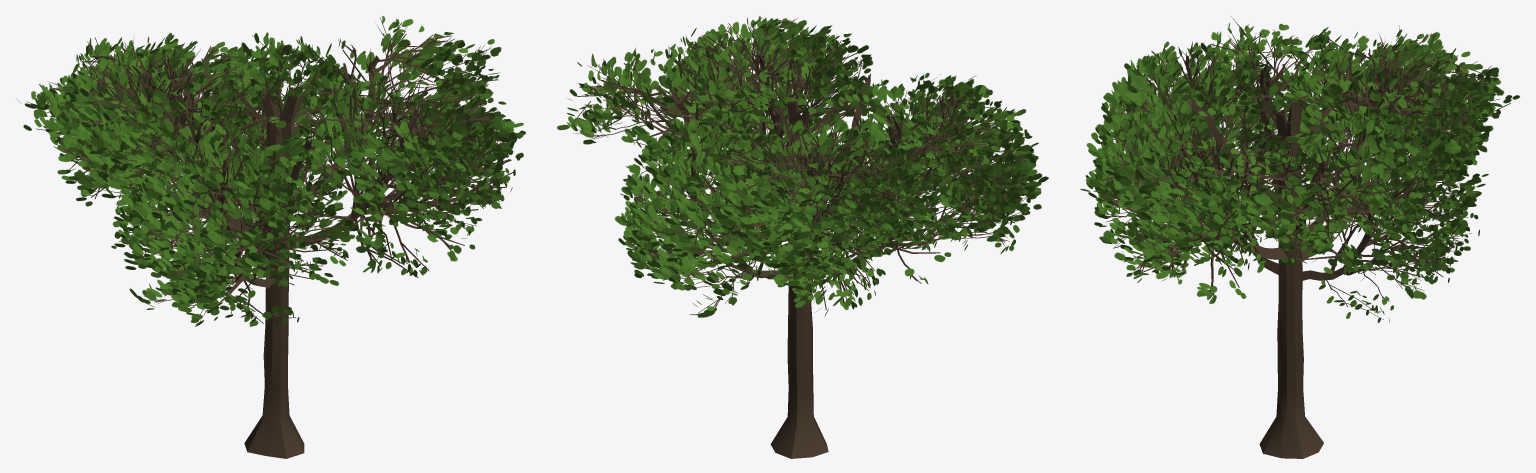
The picture shows the model from 3 angles, left to right: view 1: azimuth 30°, elevation 25°; view 2: azimuth 150°, elevation 25°; view 3: azimuth 270°, elevation 25°; orthographic projection. The views are drawn at different scales.
Parts seen in each view (by area): view 1: oak 01.001_trunk_Mat.001_0.064; view 2: oak 01.001_trunk_Mat.001_0.064; view 3: oak 01.001_trunk_Mat.001_0.064.
Part boxes in pixels (x1,y1,x2,y2): oak 01.001_trunk_Mat.001_0.064: (17,16,525,458); oak 01.001_trunk_Mat.001_0.064: (556,16,1048,458); oak 01.001_trunk_Mat.001_0.064: (1080,16,1519,458).
Bounding box in the file's own units: 5.58 × 4.68 × 5.2.
Materials: 2 (1 with a texture image).
